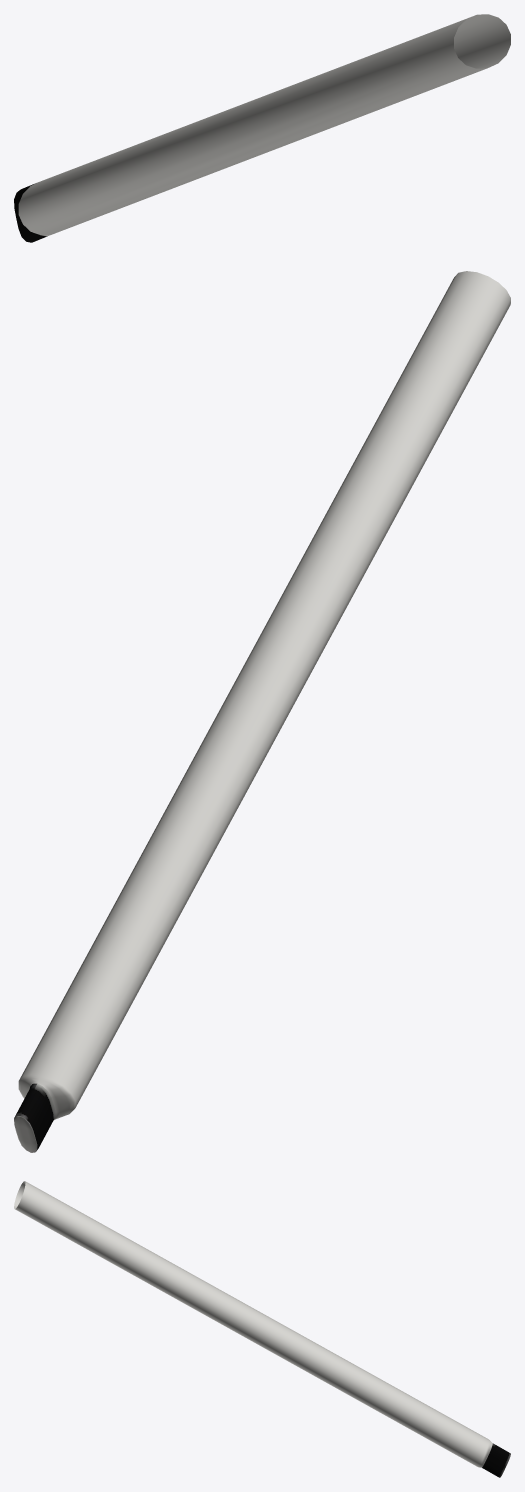
File: tubo_pata1.obj
3 views of the same model, one above another, from view 1: azimuth 30°, elevation 25°; view 2: azimuth 150°, elevation 25°; view 3: azimuth 270°, elevation 25° (orthographic). The views are drawn at different scales.
Visible parts, largest first — view 1: Tubo_Pata1; view 2: Tubo_Pata1; view 3: Tubo_Pata1.
Boxes of the visible parts, left/top/right/bottom form: Tubo_Pata1: left=14, top=14, right=510, bottom=242; Tubo_Pata1: left=14, top=271, right=510, bottom=1152; Tubo_Pata1: left=14, top=1181, right=510, bottom=1477.
Size of the model in its own units: 0.0425 by 0.3941 by 0.6023.
Materials: 1 (1 with a texture image).
